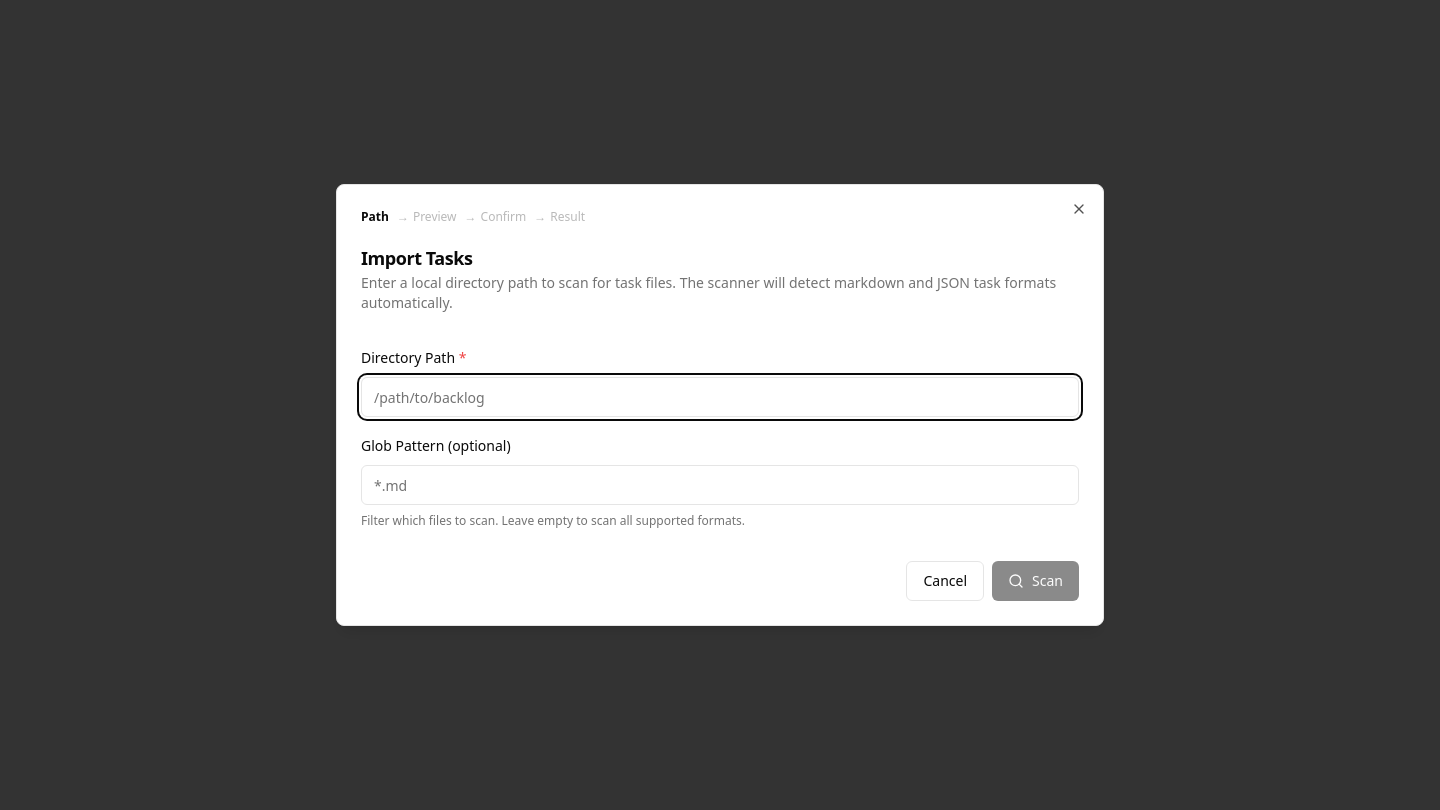
Test case: ImportTasksDialog › Step 1 — Path Input › shows error and stays on step 1 when scan fails
Type "/bad/path" into the field with test id "import-path-input" at (720,397), box [361,377,1079,417]
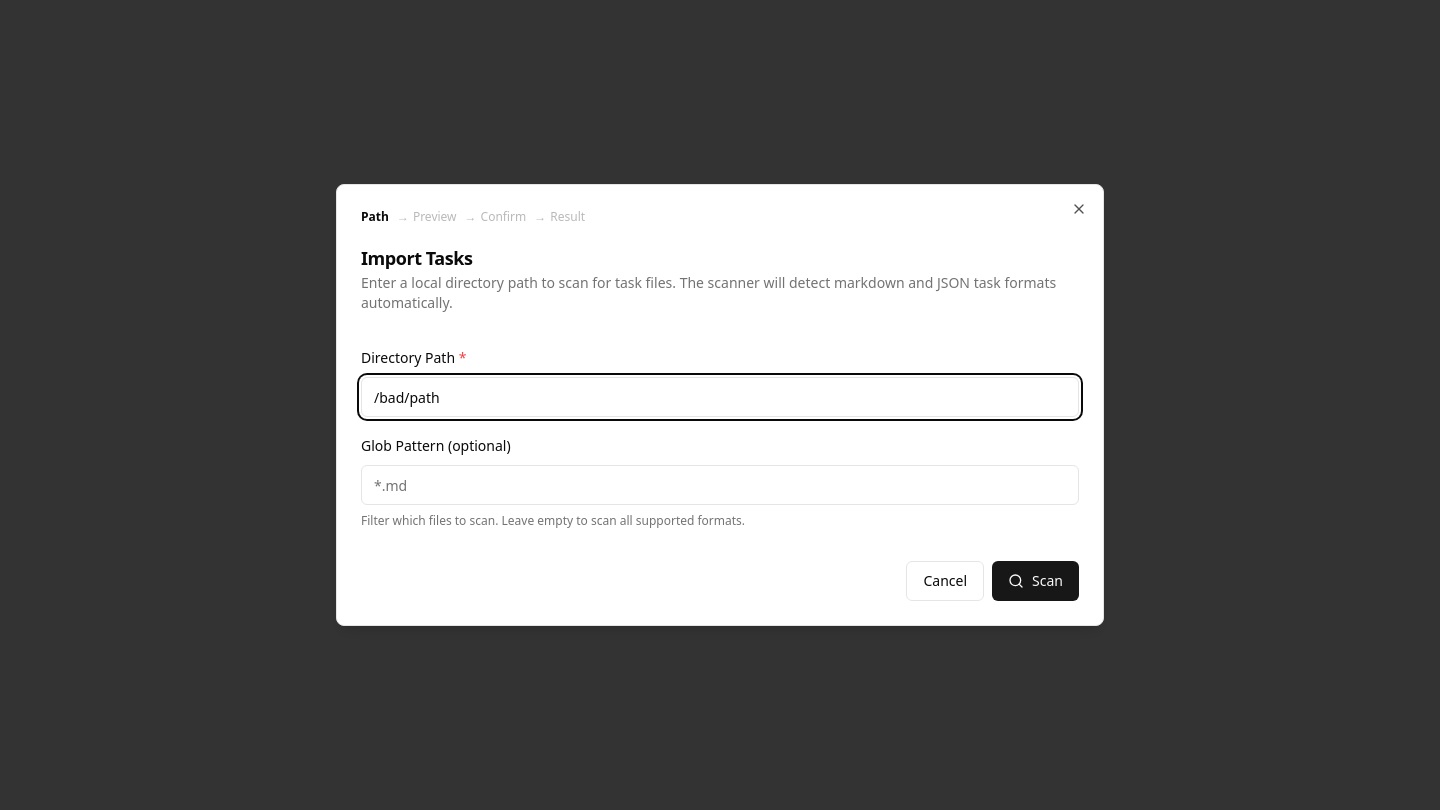
Click the button with test id "import-scan-btn" at (1036,581), box [992,561,1079,601]
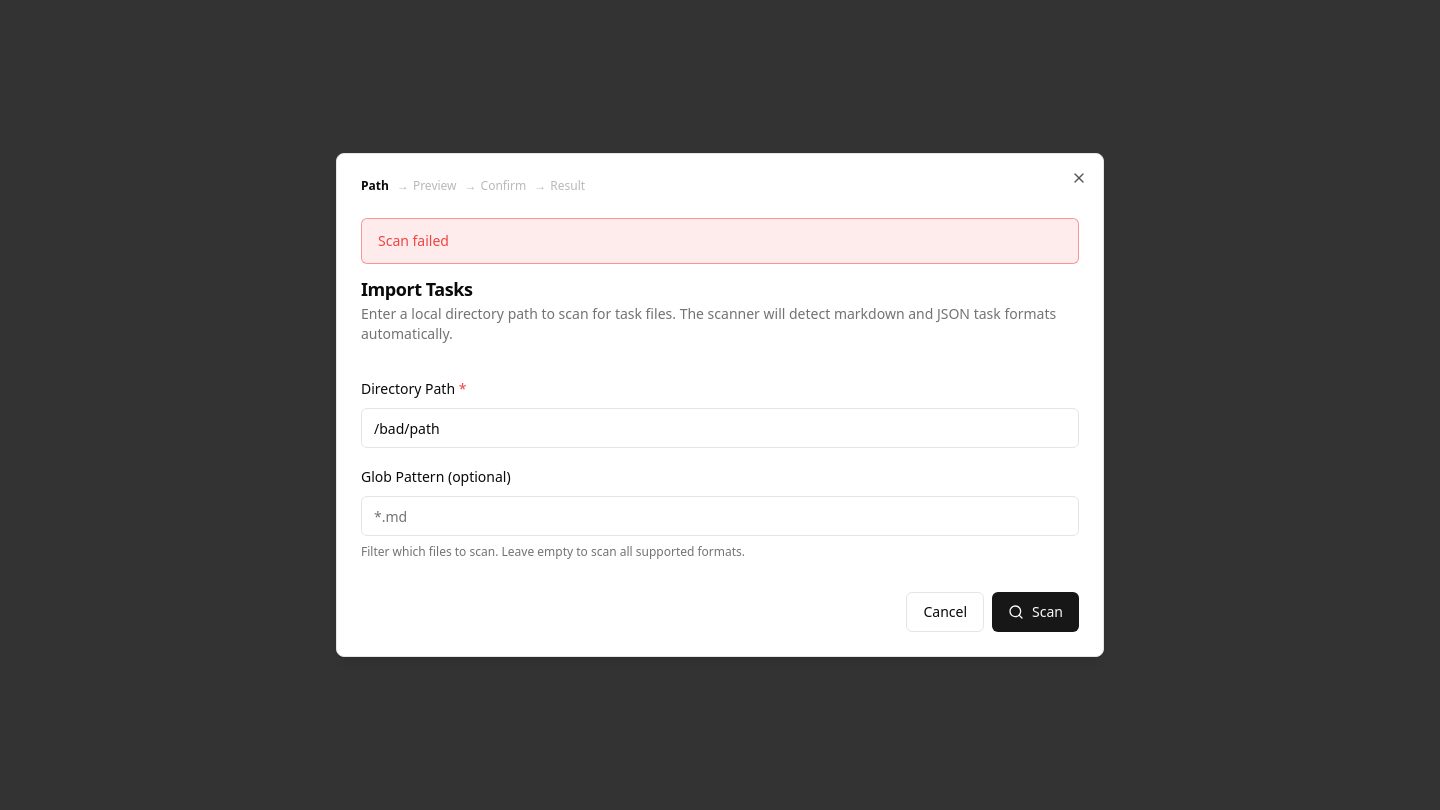
Now the message "Scan failed" is shown, box [361,218,1079,264]
